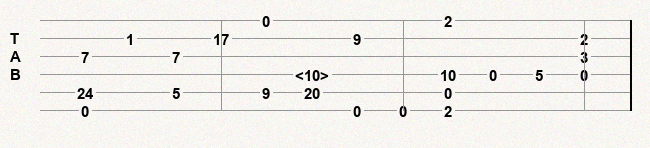0: (81, 103, 93, 118), (262, 13, 274, 28), (353, 103, 365, 118), (399, 103, 411, 118), (444, 85, 456, 100), (489, 67, 501, 82), (580, 67, 592, 82)
1: (126, 31, 138, 46)
10: (440, 67, 460, 82)
17: (213, 31, 233, 46)
2: (444, 13, 456, 28), (444, 103, 456, 118), (580, 31, 592, 46)
20: (304, 85, 324, 100)
24: (77, 85, 97, 100)
3: (580, 49, 592, 64)
5: (172, 85, 184, 100), (535, 67, 547, 82)
7: (81, 49, 93, 64), (172, 49, 184, 64)
9: (262, 85, 274, 100), (353, 31, 365, 46)
harmonic: (295, 67, 333, 82)
